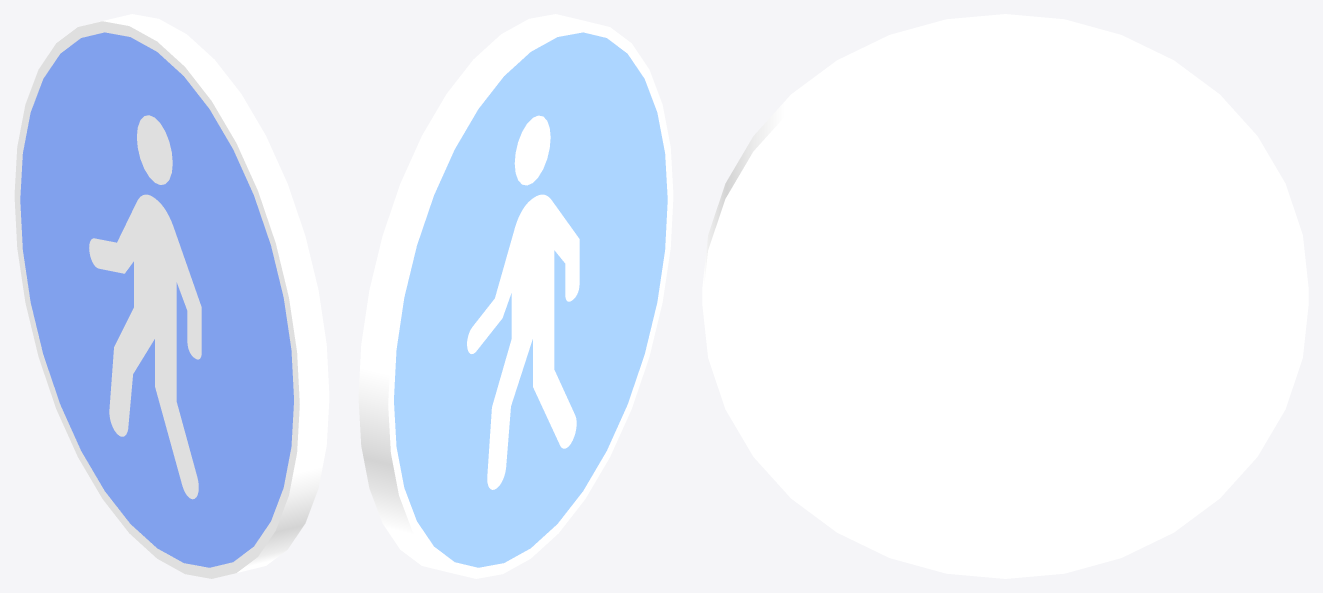
Rendered from Walk_Sign.glb.
3 views of the same model, side by side, from view 1: azimuth 30°, elevation 25°; view 2: azimuth 150°, elevation 25°; view 3: azimuth 270°, elevation 25° (orthographic). The views are drawn at different scales.
Parts seen in each view (by area): view 1: Walk_Sign; view 2: Walk_Sign; view 3: Walk_Sign.
Part boxes in pixels (x1,y1,x2,y2): Walk_Sign: [14, 14, 329, 578]; Walk_Sign: [358, 14, 673, 578]; Walk_Sign: [702, 14, 1308, 578].
Size of the model in its own units: 0.0643 by 1 by 1.
